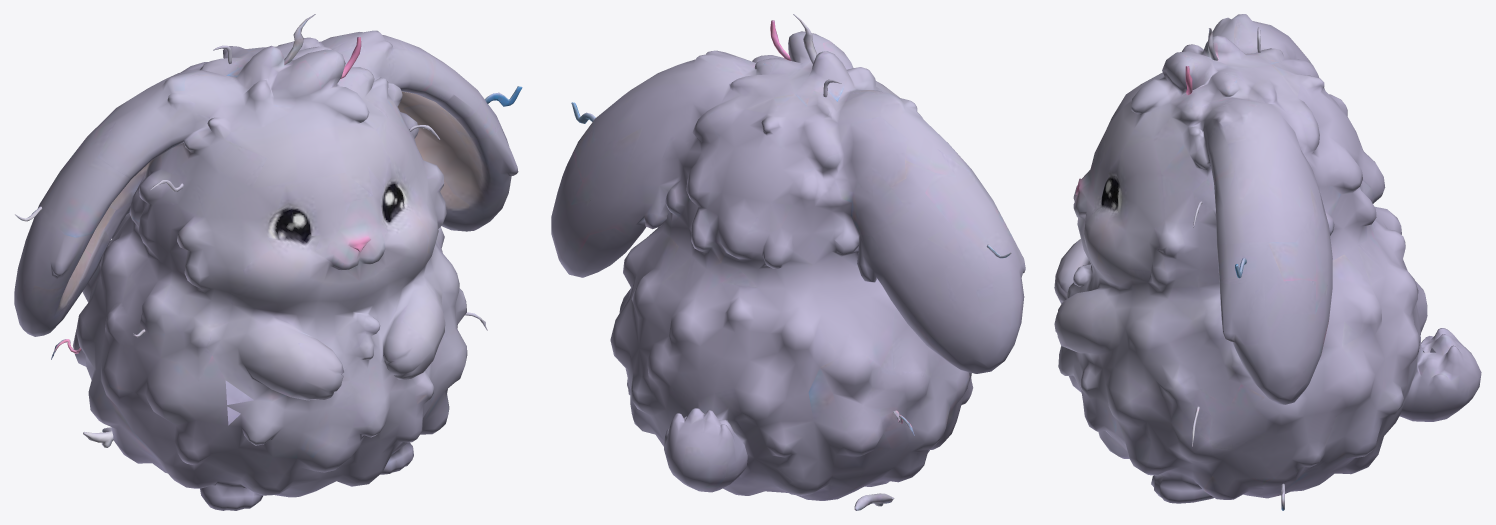
The model's file is dustbunny.glb.
3 renders of one model, left to right at view 1: azimuth 30°, elevation 25°; view 2: azimuth 150°, elevation 25°; view 3: azimuth 270°, elevation 25°, orthographic. The views are drawn at different scales.
Bounding box in the file's own units: 0.957 × 0.8525 × 0.7446.
1 material, 1 textured.
